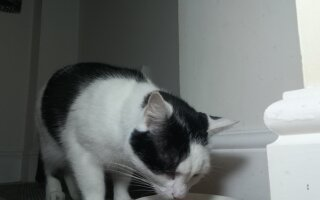bad: (38, 62, 242, 200)
